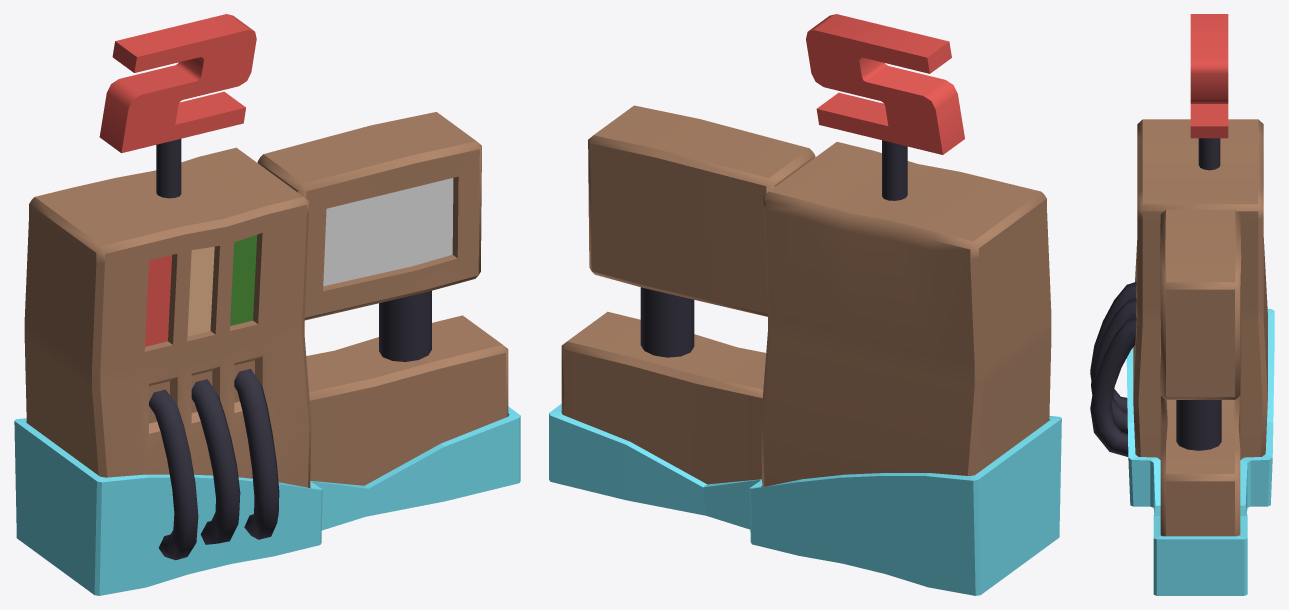
The model's file is gasPump.fbx.
The picture shows the model from 3 angles, left to right: view 1: azimuth 30°, elevation 25°; view 2: azimuth 150°, elevation 25°; view 3: azimuth 270°, elevation 25°; orthographic projection. The views are drawn at different scales.
Visible parts, largest first — view 1: gasPump_main, gasPump_deco, gasPump_numbers, gasPump_screens, gasPump_pumps, gasPump_cylinder; view 2: gasPump_main, gasPump_deco, gasPump_numbers, gasPump_cylinder; view 3: gasPump_main, gasPump_deco, gasPump_numbers, gasPump_pumps, gasPump_cylinder.
Boxes of the visible parts, x1,y1,x2,y2 form: gasPump_main: [24, 112, 508, 488]; gasPump_deco: [14, 406, 520, 595]; gasPump_numbers: [99, 14, 256, 198]; gasPump_screens: [145, 178, 453, 346]; gasPump_pumps: [149, 368, 279, 560]; gasPump_cylinder: [379, 291, 431, 361]; gasPump_main: [561, 105, 1051, 486]; gasPump_deco: [549, 404, 1061, 595]; gasPump_numbers: [806, 14, 964, 200]; gasPump_cylinder: [640, 287, 694, 357]; gasPump_main: [1133, 119, 1267, 536]; gasPump_deco: [1126, 309, 1274, 595]; gasPump_numbers: [1190, 14, 1228, 170]; gasPump_pumps: [1090, 282, 1136, 456]; gasPump_cylinder: [1176, 400, 1221, 450].
Bounding box in the file's own units: 242 × 102 × 262.
